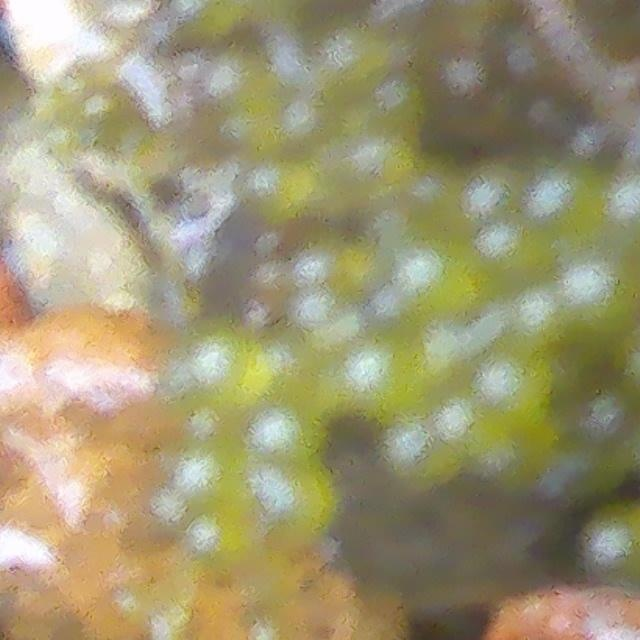SeaGrape: (346, 336, 433, 422), (249, 396, 332, 473), (562, 259, 633, 328)
